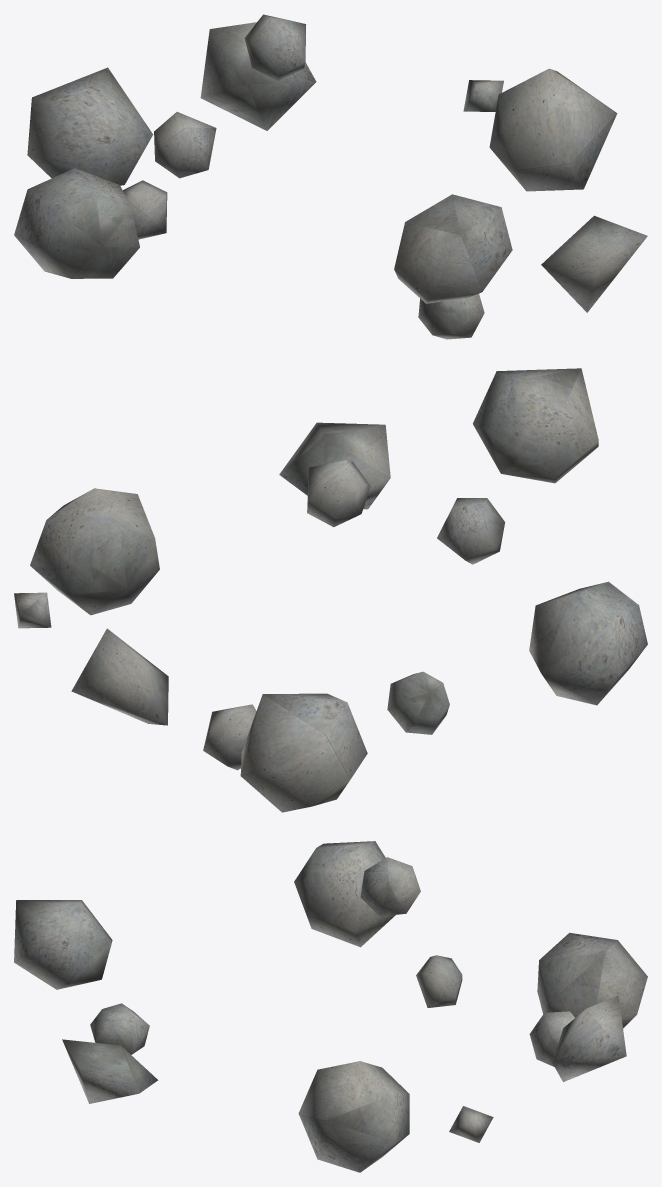
The model's file is stone_effect15.obj.
3 views of the same model, one above another, from view 1: azimuth 30°, elevation 25°; view 2: azimuth 150°, elevation 25°; view 3: azimuth 270°, elevation 25° (orthographic). The views are drawn at different scales.
Parts seen in each view (by area): view 1: Sphere011; view 2: Sphere011; view 3: Sphere011.
Boxes of the visible parts, <box> form: Sphere011: <box>14,14,647,339</box>; Sphere011: <box>14,368,647,812</box>; Sphere011: <box>14,841,647,1172</box>.
Bounding box in the file's own units: 253 × 98.89 × 273.
1 material, 1 textured.
